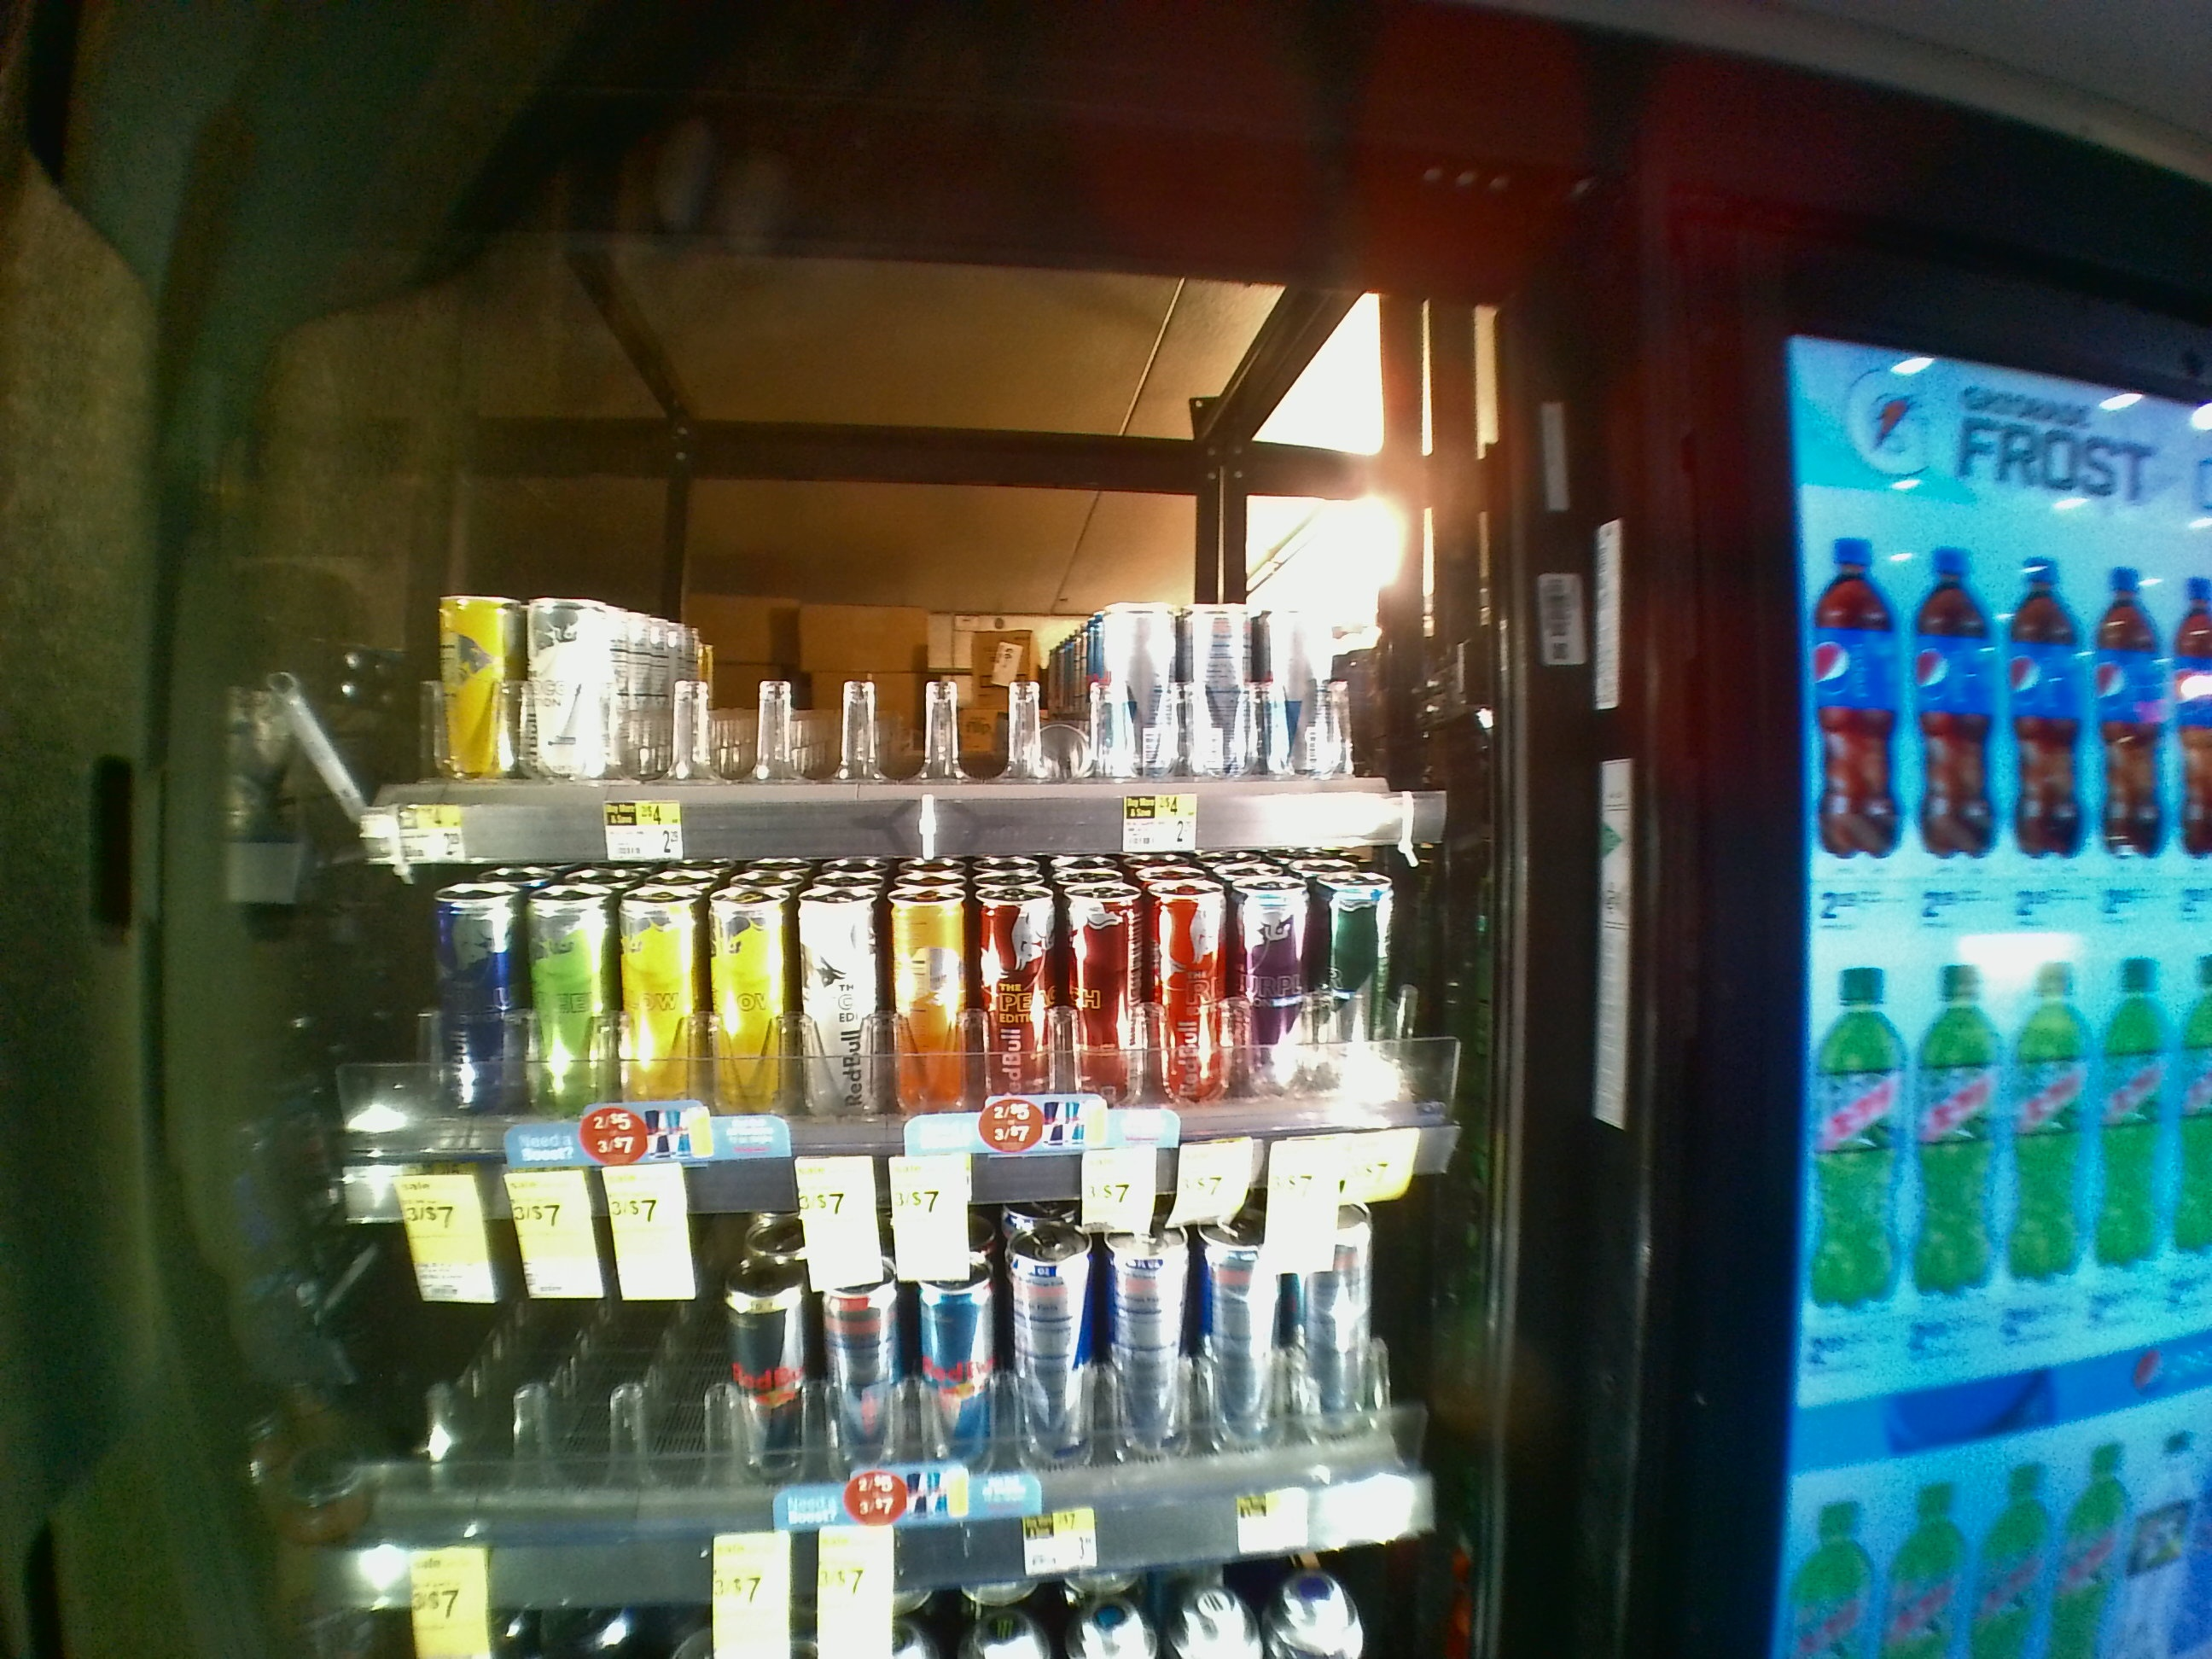shelf: (354, 258, 1496, 856), (347, 861, 1531, 1213)
